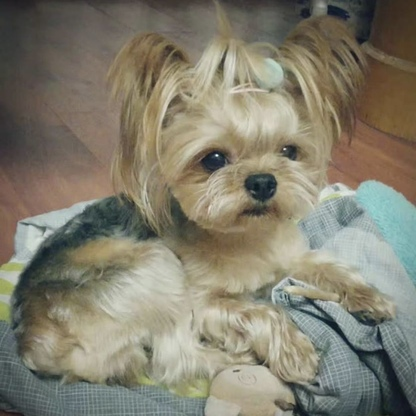yorkshire: (11, 13, 398, 390)
